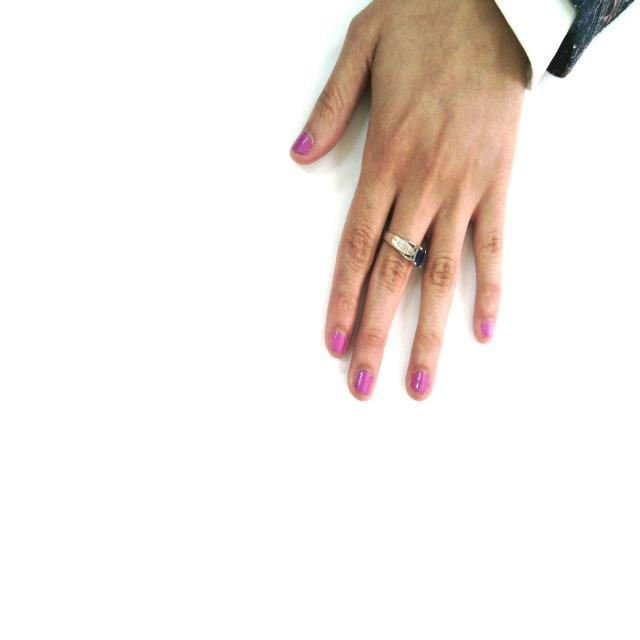Fingernail: (354, 369, 372, 395), (411, 371, 429, 394), (293, 133, 311, 154), (331, 330, 346, 355), (481, 321, 492, 339)
